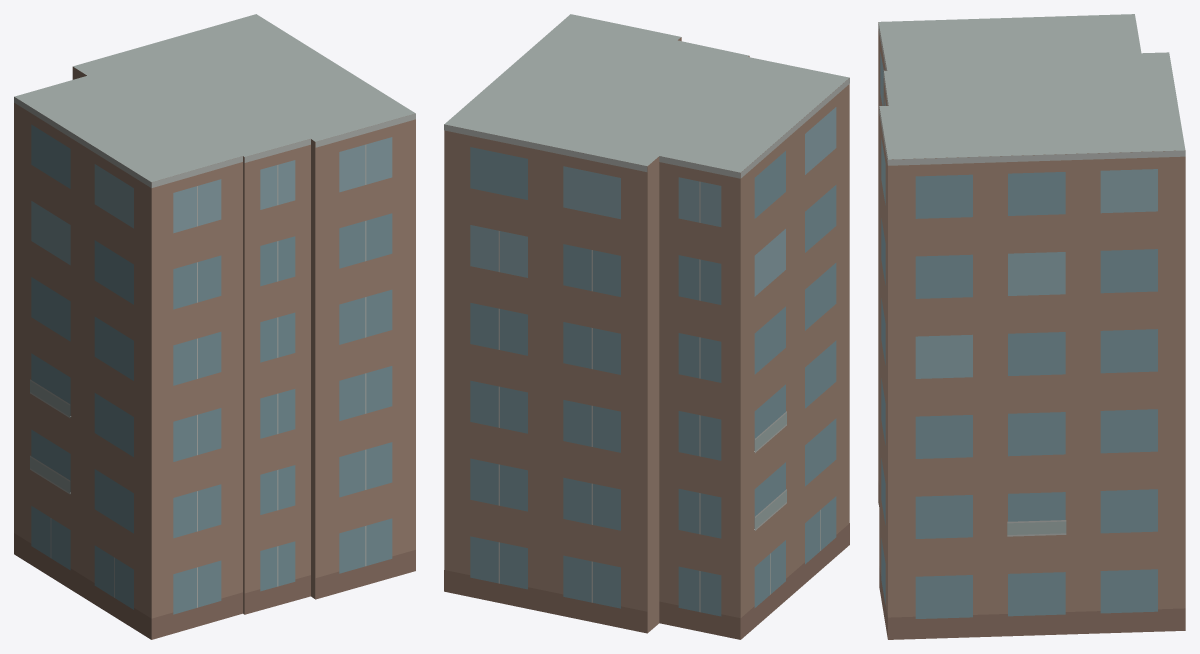
Rendered from survey-upis-32511407.glb.
The picture shows the model from 3 angles, left to right: view 1: azimuth 30°, elevation 25°; view 2: azimuth 150°, elevation 25°; view 3: azimuth 270°, elevation 25°; orthographic projection. The views are drawn at different scales.
Parts seen in each view (by area): view 1: survey-upis-32511407.tmp; view 2: survey-upis-32511407.tmp; view 3: survey-upis-32511407.tmp.
Boxes of the visible parts, box(x1,y1,x2,y2) form: survey-upis-32511407.tmp: box(14, 14, 415, 639); survey-upis-32511407.tmp: box(444, 14, 849, 639); survey-upis-32511407.tmp: box(878, 14, 1185, 639).
Bounding box in the file's own units: 12.23 × 18.8 × 10.9.
